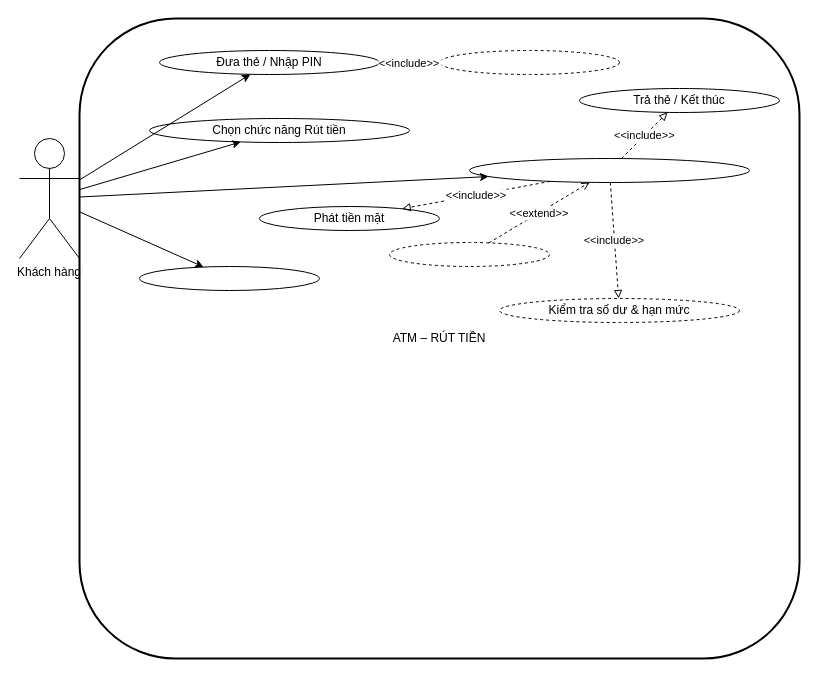
Some shapes in this 818 by 676 pixel diagram are drawn without their labels. Here are the shapes that lost their labels. From the top down, the centre of each, then its label:
At (x=529, y=62): "Xác thực PIN".
At (x=609, y=170): "Xử lý giao dịch rút tiền".
At (x=469, y=254): "In biên lai".
At (x=229, y=278): "Nhập số tiền".
